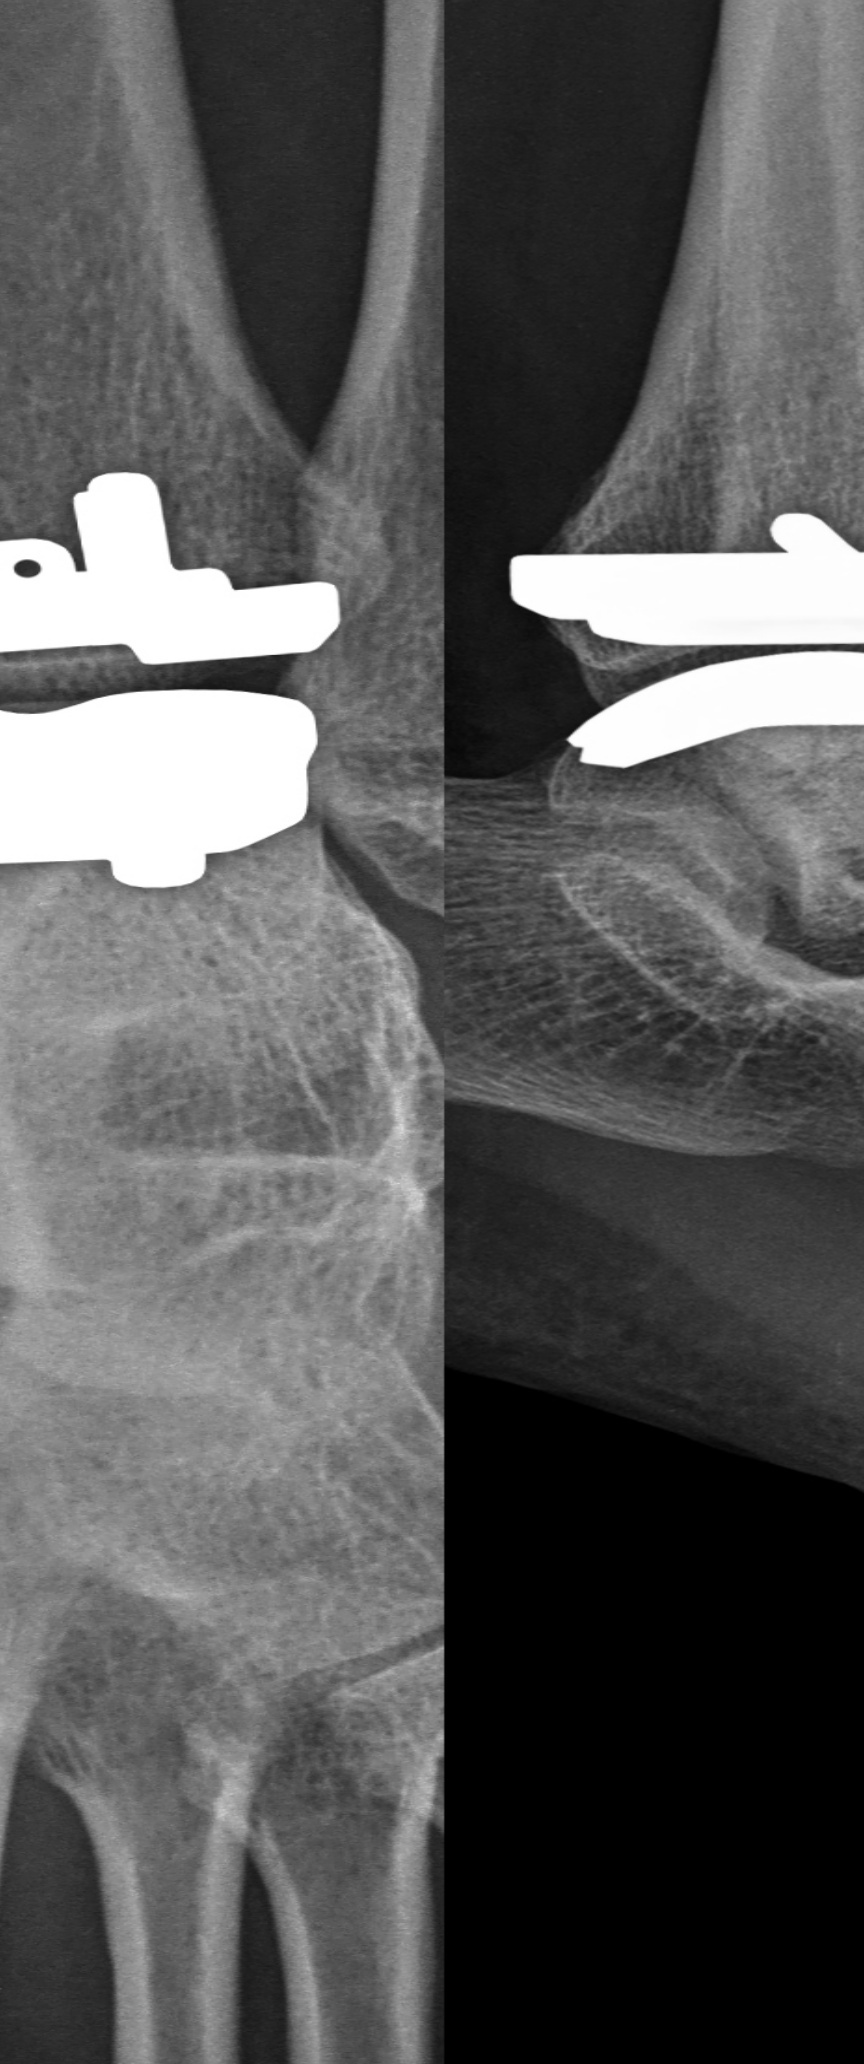Cadence-Integra: (1, 436, 349, 935), (478, 505, 864, 791)
